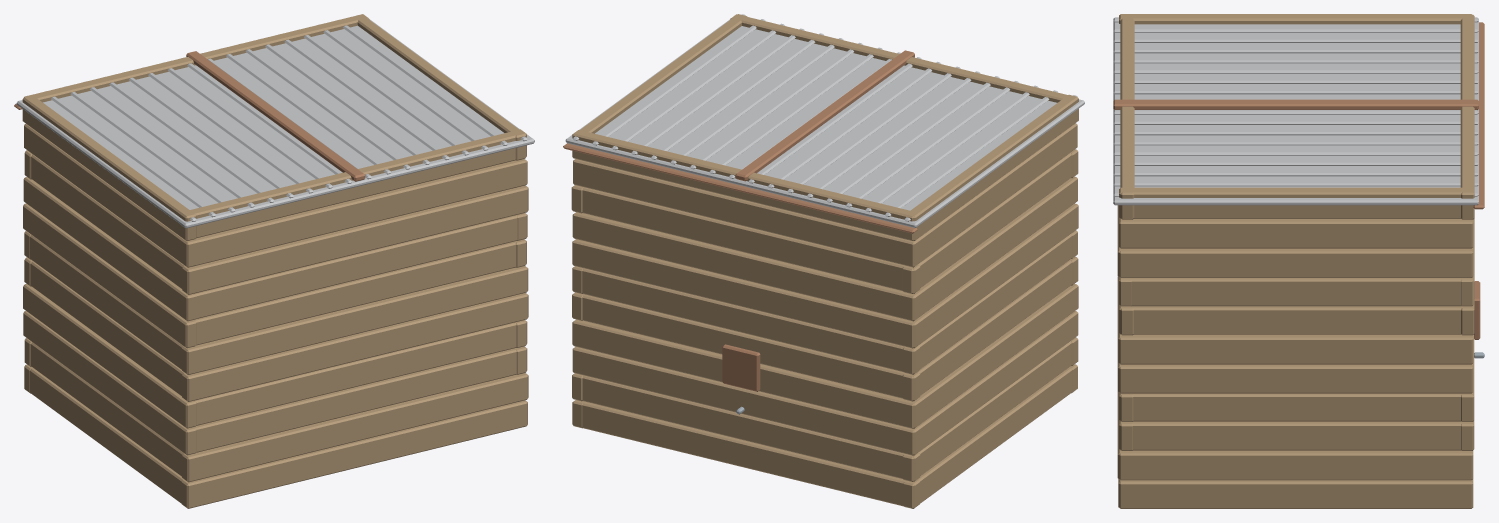
File: covers_pompe.glb
3 renders of one model, left to right at view 1: azimuth 30°, elevation 25°; view 2: azimuth 150°, elevation 25°; view 3: azimuth 270°, elevation 25°, orthographic. The views are drawn at different scales.
Visible parts, largest first — view 1: covers_pompe; view 2: covers_pompe; view 3: covers_pompe.
Part boxes in pixels (x1,y1,x2,y2): covers_pompe: (14,14,534,508); covers_pompe: (563,14,1084,508); covers_pompe: (1113,14,1484,508).
Bounding box in the file's own units: 3.08 × 2.48 × 2.62.
